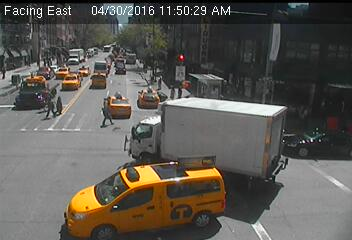neg: (173, 49, 186, 66), (12, 47, 22, 60), (105, 42, 113, 53)
pos: (96, 95, 119, 127), (40, 95, 58, 119), (52, 96, 67, 116), (166, 82, 179, 100), (175, 85, 185, 98)
